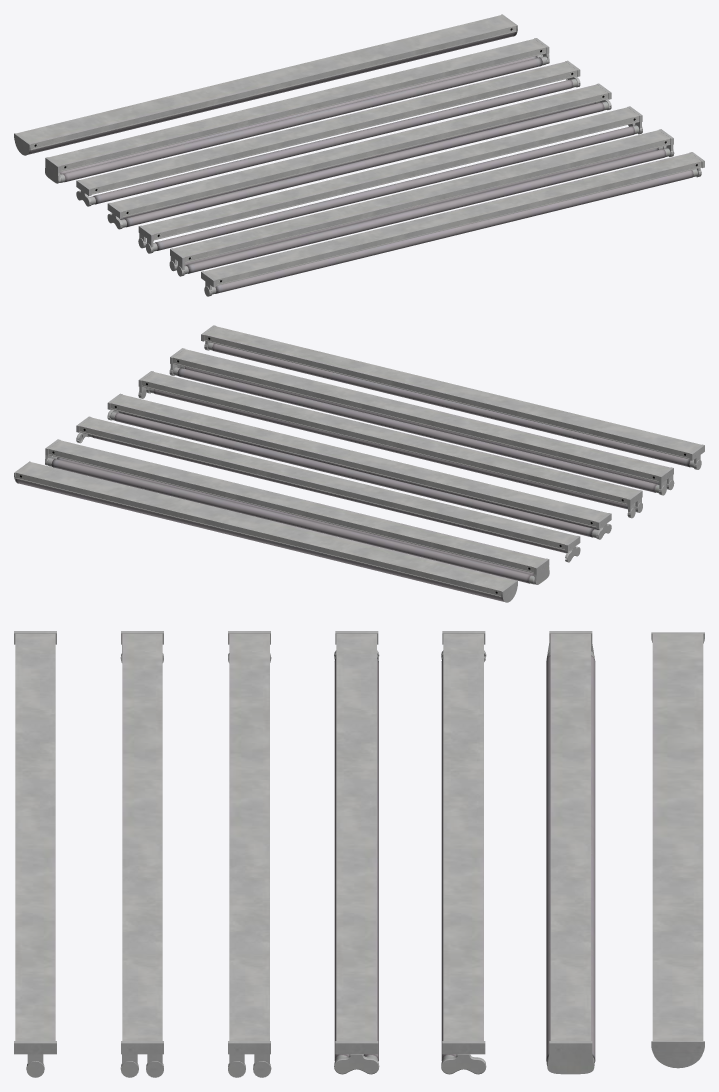
3 renders of one model, top to bottom at view 1: azimuth 30°, elevation 25°; view 2: azimuth 150°, elevation 25°; view 3: azimuth 270°, elevation 25°, orthographic. The views are drawn at different scales.
Parts seen in each view (by area): view 1: mounted_fluorescent_lights_b, mounted_fluorescent_lights_f, mounted_fluorescent_lights_d, mounted_fluorescent_lights_c, mounted_fluorescent_lights_e, mounted_fluorescent_lights_a, mounted_fluorescent_lights_g; view 2: mounted_fluorescent_lights_b, mounted_fluorescent_lights_f, mounted_fluorescent_lights_d, mounted_fluorescent_lights_a, mounted_fluorescent_lights_g, mounted_fluorescent_lights_c, mounted_fluorescent_lights_e; view 3: mounted_fluorescent_lights_g, mounted_fluorescent_lights_f, mounted_fluorescent_lights_d, mounted_fluorescent_lights_e, mounted_fluorescent_lights_b, mounted_fluorescent_lights_c, mounted_fluorescent_lights_a.
Part boxes in pixels (x1,y1,x2,y2): mounted_fluorescent_lights_b: (169, 129, 674, 276); mounted_fluorescent_lights_f: (45, 38, 549, 183); mounted_fluorescent_lights_d: (107, 83, 611, 229); mounted_fluorescent_lights_c: (138, 106, 642, 253); mounted_fluorescent_lights_e: (76, 60, 580, 206); mounted_fluorescent_lights_a: (201, 152, 704, 296); mounted_fluorescent_lights_g: (14, 14, 517, 155); mounted_fluorescent_lights_b: (169, 348, 674, 495); mounted_fluorescent_lights_f: (45, 439, 549, 584); mounted_fluorescent_lights_d: (107, 393, 611, 539); mounted_fluorescent_lights_a: (201, 325, 704, 469); mounted_fluorescent_lights_g: (14, 461, 517, 602); mounted_fluorescent_lights_c: (138, 371, 642, 518); mounted_fluorescent_lights_e: (76, 416, 580, 562); mounted_fluorescent_lights_g: (651, 632, 704, 1068); mounted_fluorescent_lights_f: (546, 631, 595, 1074); mounted_fluorescent_lights_d: (334, 631, 379, 1074); mounted_fluorescent_lights_e: (441, 631, 486, 1074); mounted_fluorescent_lights_b: (120, 631, 163, 1077); mounted_fluorescent_lights_c: (228, 631, 271, 1077); mounted_fluorescent_lights_a: (14, 631, 56, 1077).
Bounding box in the file's own units: 0.9122 × 0.0354 × 0.6454.
Materials: 2 (2 with a texture image).
